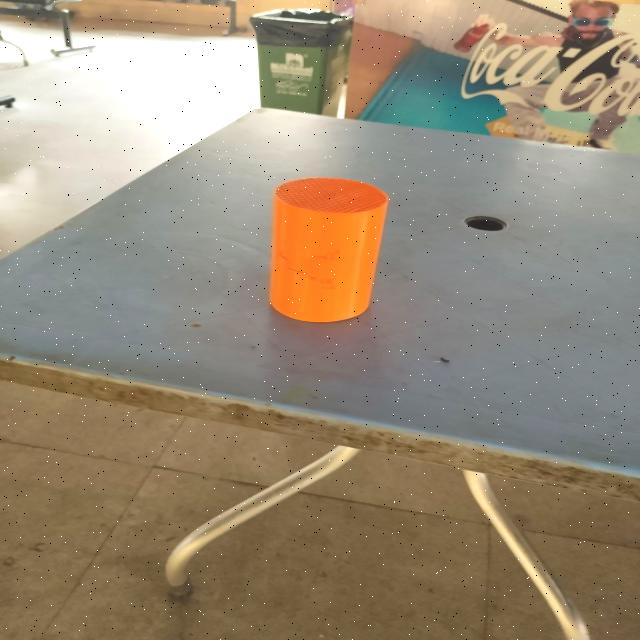Cylinder: (267, 176, 389, 322)
